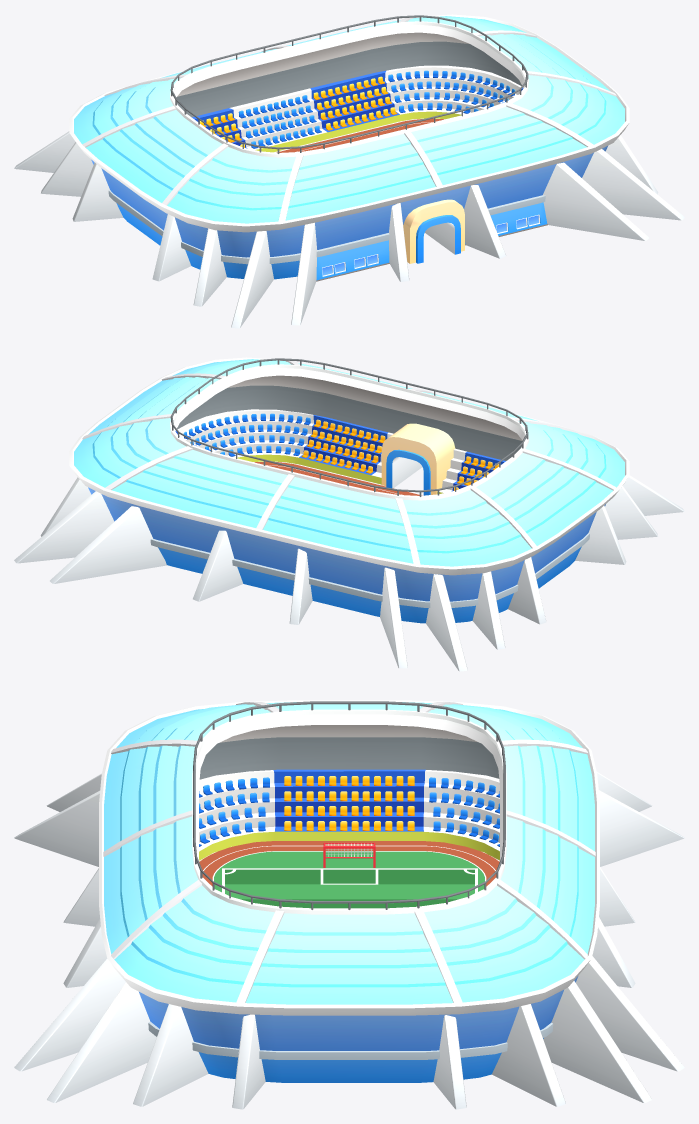
File: city2-stadium-01.glb
The picture shows the model from 3 angles, top to bottom: view 1: azimuth 30°, elevation 25°; view 2: azimuth 150°, elevation 25°; view 3: azimuth 270°, elevation 25°; orthographic projection. The views are drawn at different scales.
Parts seen in each view (by area): view 1: Stadium_01; view 2: Stadium_01; view 3: Stadium_01.
Part boxes in pixels (bbox=[...]): Stadium_01: bbox=[14, 14, 684, 328]; Stadium_01: bbox=[14, 357, 684, 671]; Stadium_01: bbox=[14, 700, 684, 1109].
Size of the model in its own units: 97.24 by 21.97 by 87.92.
Materials: 1 (1 with a texture image).
